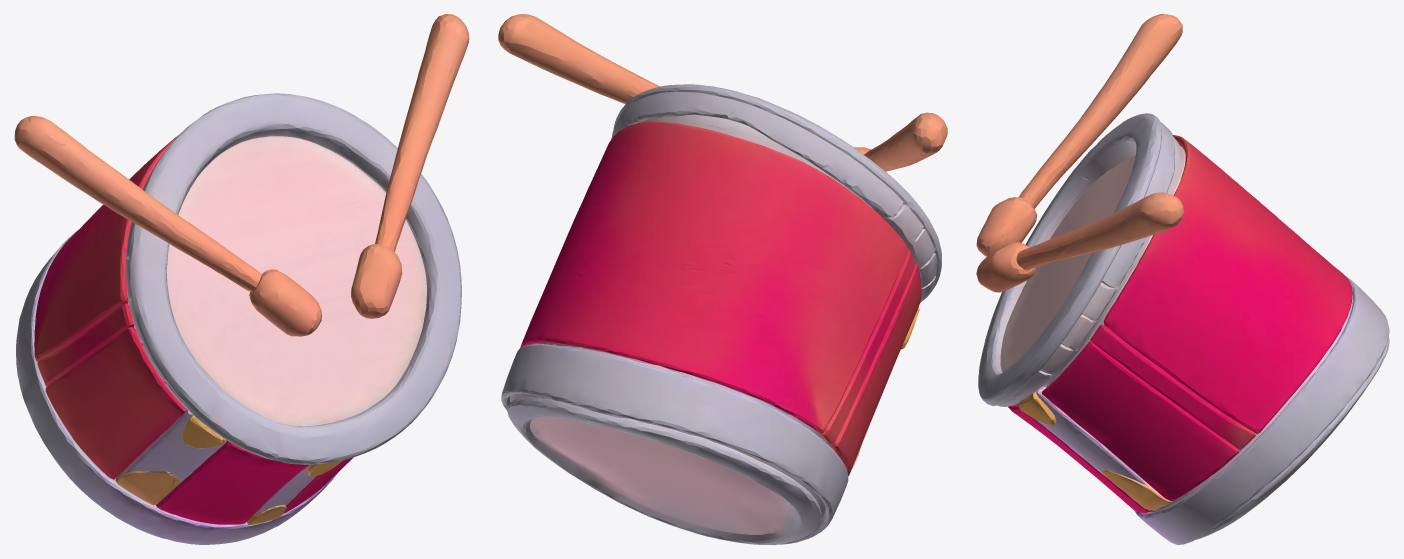
The model's file is drum.glb.
3 renders of one model, left to right at view 1: azimuth 30°, elevation 25°; view 2: azimuth 150°, elevation 25°; view 3: azimuth 270°, elevation 25°, orthographic. The views are drawn at different scales.
Parts seen in each view (by area): view 1: model; view 2: model; view 3: model.
Boxes of the visible parts, x1,y1,x2,y2 form: model: (14,14,469,544); model: (498,14,947,544); model: (976,14,1389,544).
Bounding box in the file's own units: 0.9838 × 1 × 0.8854.
Materials: 1 (1 with a texture image).
